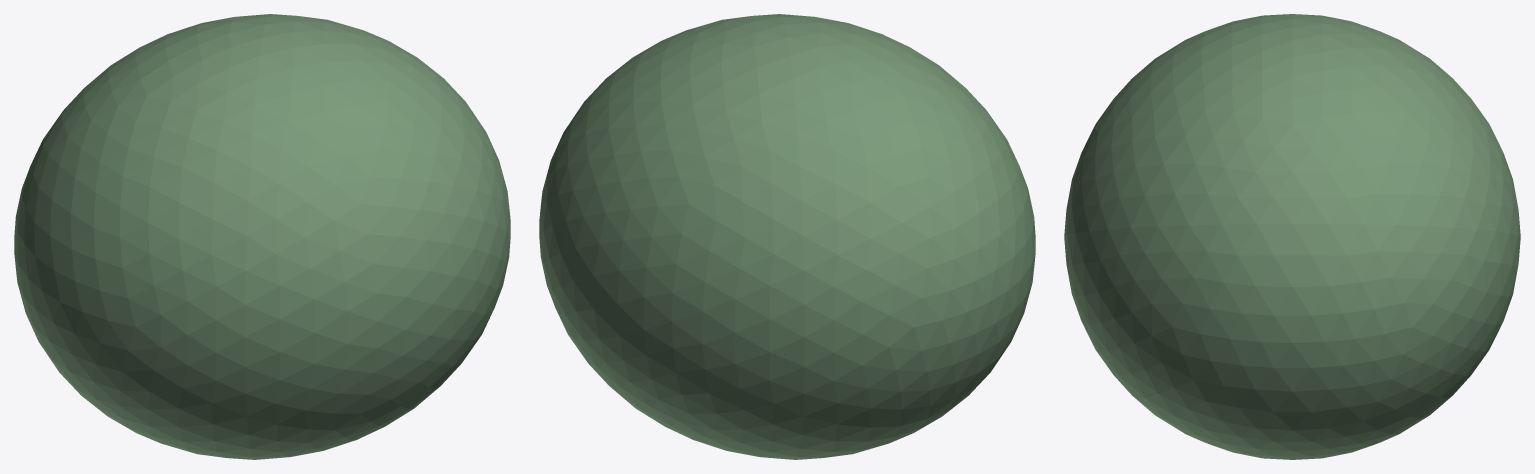
File: army_sikh_turban_standard.glb
3 views of the same model, side by side, from view 1: azimuth 30°, elevation 25°; view 2: azimuth 150°, elevation 25°; view 3: azimuth 270°, elevation 25° (orthographic).
Visible parts, largest first — view 1: turban; view 2: turban; view 3: turban.
Part boxes in pixels (left/top/right/bottom): turban: left=14, top=14, right=510, bottom=459; turban: left=539, top=14, right=1035, bottom=459; turban: left=1064, top=14, right=1520, bottom=459.
Bounding box in the file's own units: 0.198 × 0.171 × 0.18.
